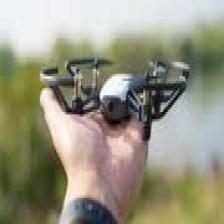drone: (40, 54, 188, 132)
